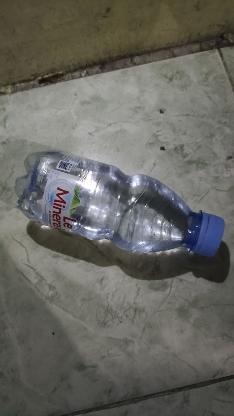Plastic Bottle: (14, 149, 225, 257)
